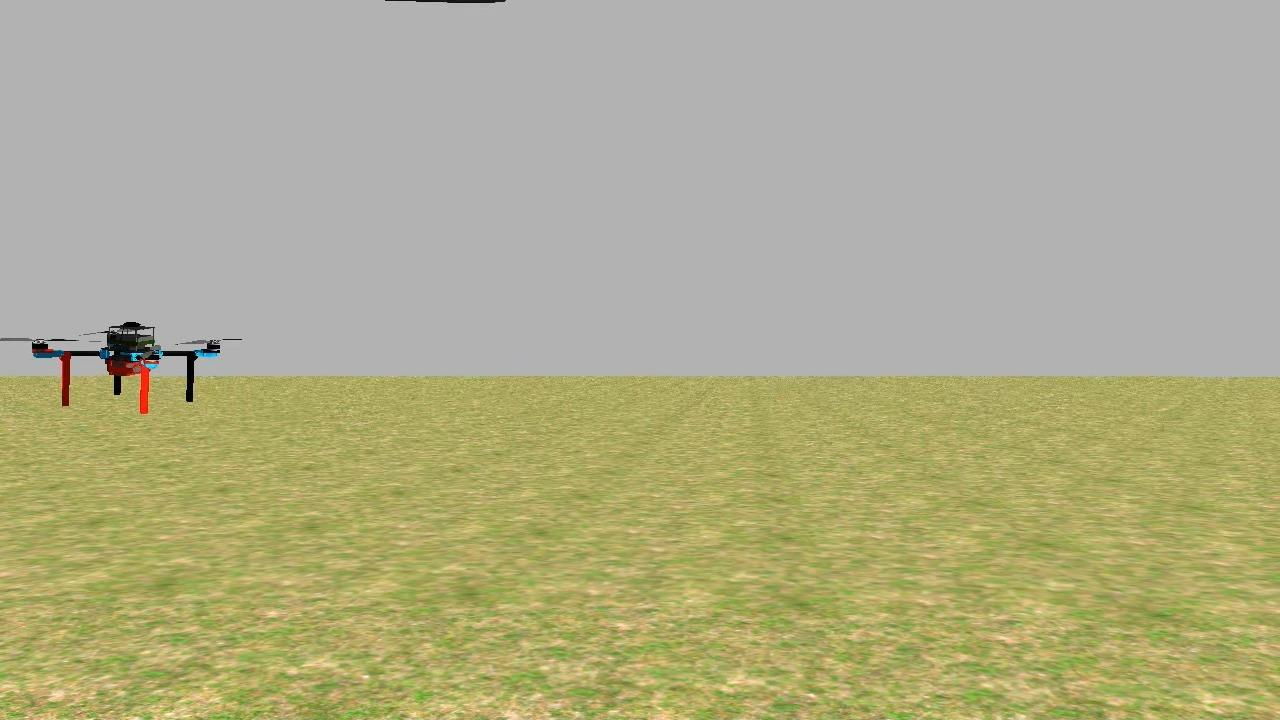UAV: (23, 307, 227, 422)
